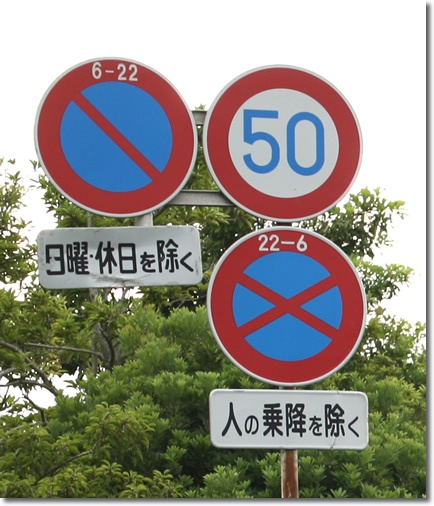Prohibition_sign: (199, 221, 383, 391), (34, 63, 203, 216)
